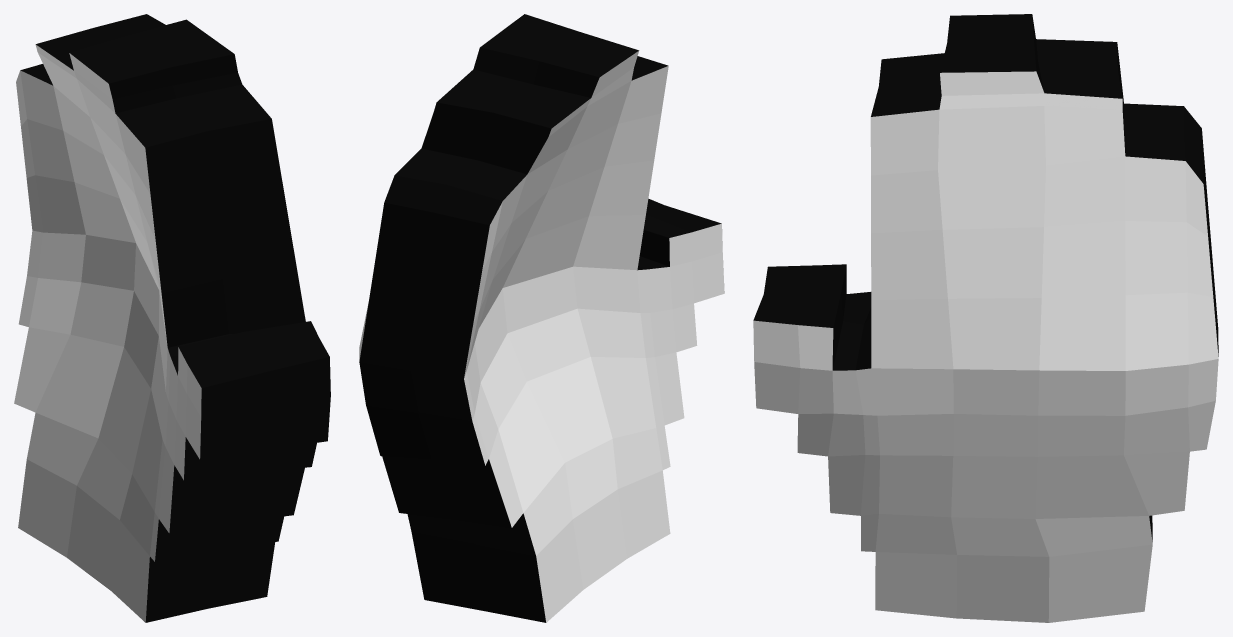
File: model_Cursor_Release_Basic.fbx
3 renders of one model, left to right at view 1: azimuth 30°, elevation 25°; view 2: azimuth 150°, elevation 25°; view 3: azimuth 270°, elevation 25°, orthographic. The views are drawn at different scales.
Parts seen in each view (by area): view 1: SM_Release; view 2: SM_Release; view 3: SM_Release.
Boxes of the visible parts, x1,y1,x2,y2 form: SM_Release: (14, 14, 330, 622); SM_Release: (359, 14, 724, 622); SM_Release: (753, 14, 1218, 622).
Size of the model in its own units: 32.78 by 89.01 by 68.85.
